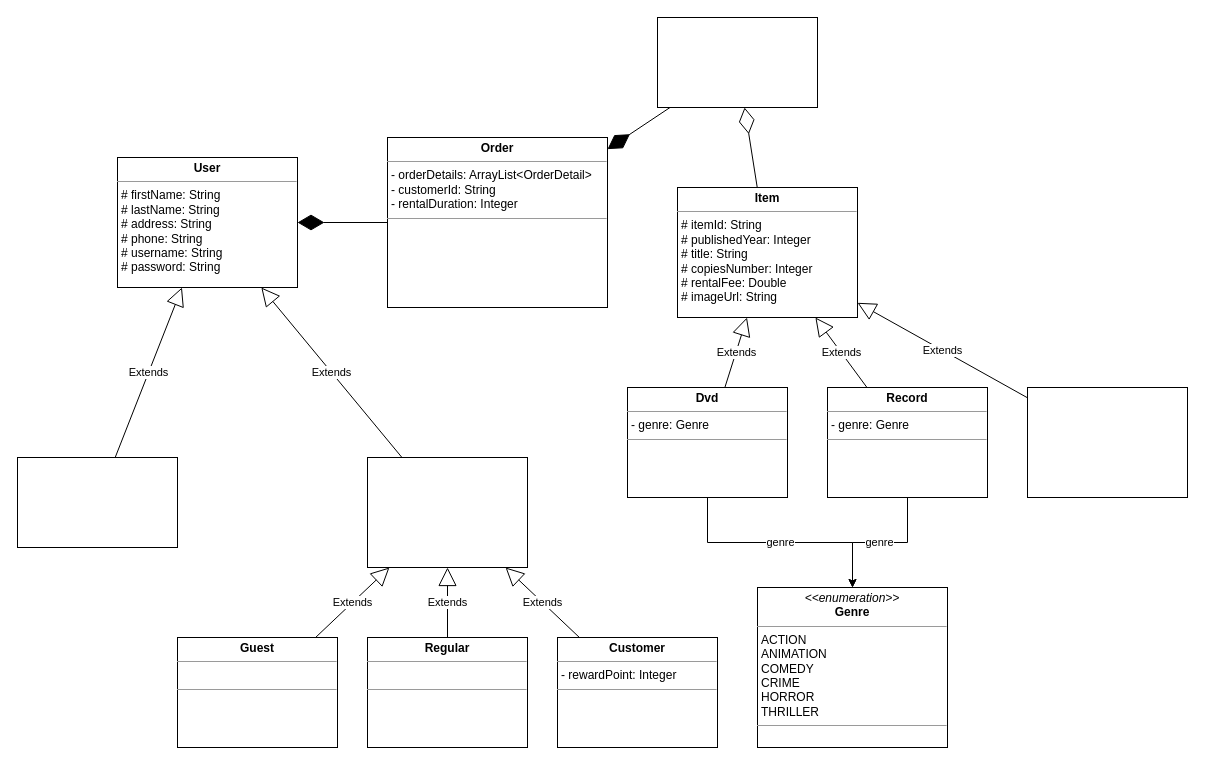
The diagram is 1205 pixels wide and 765 high, and some of its shapes have lost their labels. The centre of each missing label's shape, as x and y in pixels:
"Admin" belongs at point (97, 502).
"Customer # customerId: String # balance: Integer" belongs at point (447, 512).
"Game" belongs at point (1107, 442).
"OrderDetail - item: Item - quantity: Integer" belongs at point (737, 62).
